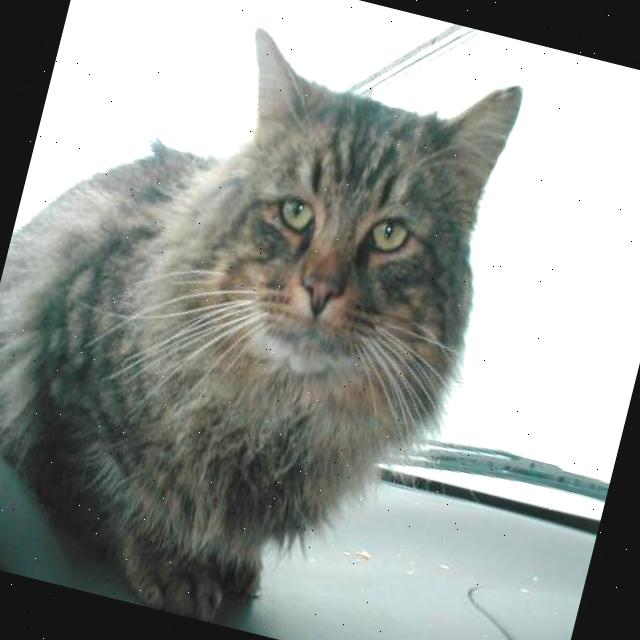cat-eye-normal: (352, 200, 423, 268), (260, 180, 326, 246)
